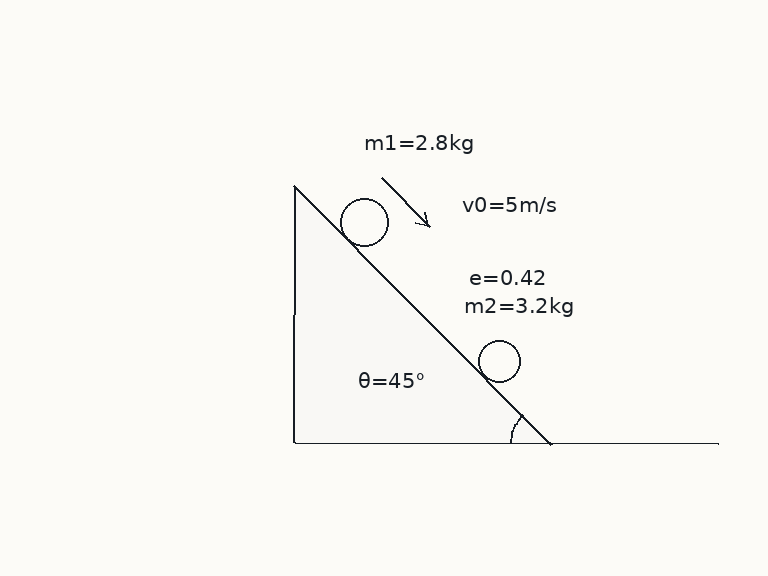ball: (338, 196, 390, 248), (476, 338, 522, 384)
ramp: (292, 184, 553, 445)
